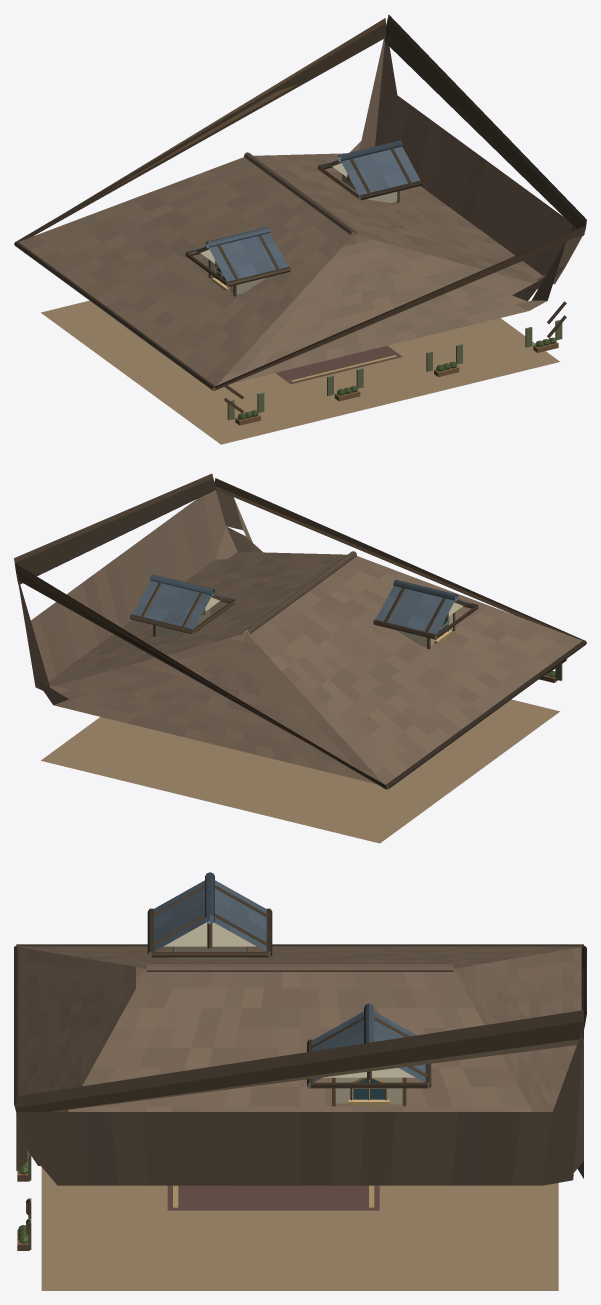
3 views of the same model, one above another, from view 1: azimuth 30°, elevation 25°; view 2: azimuth 150°, elevation 25°; view 3: azimuth 270°, elevation 25° (orthographic). The views are drawn at different scales.
Parts seen in each view (by area): view 1: fd5f362f2c9a4fa0112661a9d053c2424bc3f6d56ba657a6476c67d335fd; view 2: fd5f362f2c9a4fa0112661a9d053c2424bc3f6d56ba657a6476c67d335fd; view 3: fd5f362f2c9a4fa0112661a9d053c2424bc3f6d56ba657a6476c67d335fd.
Boxes of the visible parts, left/top/right/bottom form: fd5f362f2c9a4fa0112661a9d053c2424bc3f6d56ba657a6476c67d335fd: left=14, top=14, right=586, bottom=444; fd5f362f2c9a4fa0112661a9d053c2424bc3f6d56ba657a6476c67d335fd: left=14, top=473, right=586, bottom=843; fd5f362f2c9a4fa0112661a9d053c2424bc3f6d56ba657a6476c67d335fd: left=14, top=872, right=586, bottom=1290.
Size of the model in its own units: 14.02 by 7.32 by 12.97.
Materials: 6 (1 with a texture image).
